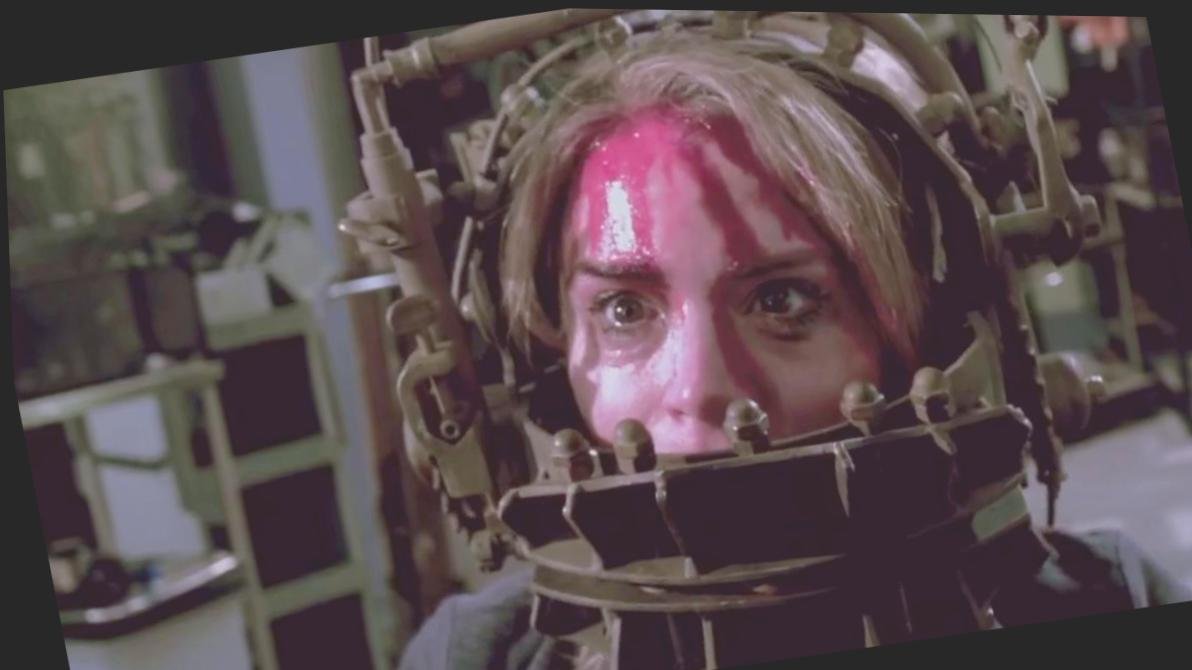Fire: (567, 113, 877, 396)
